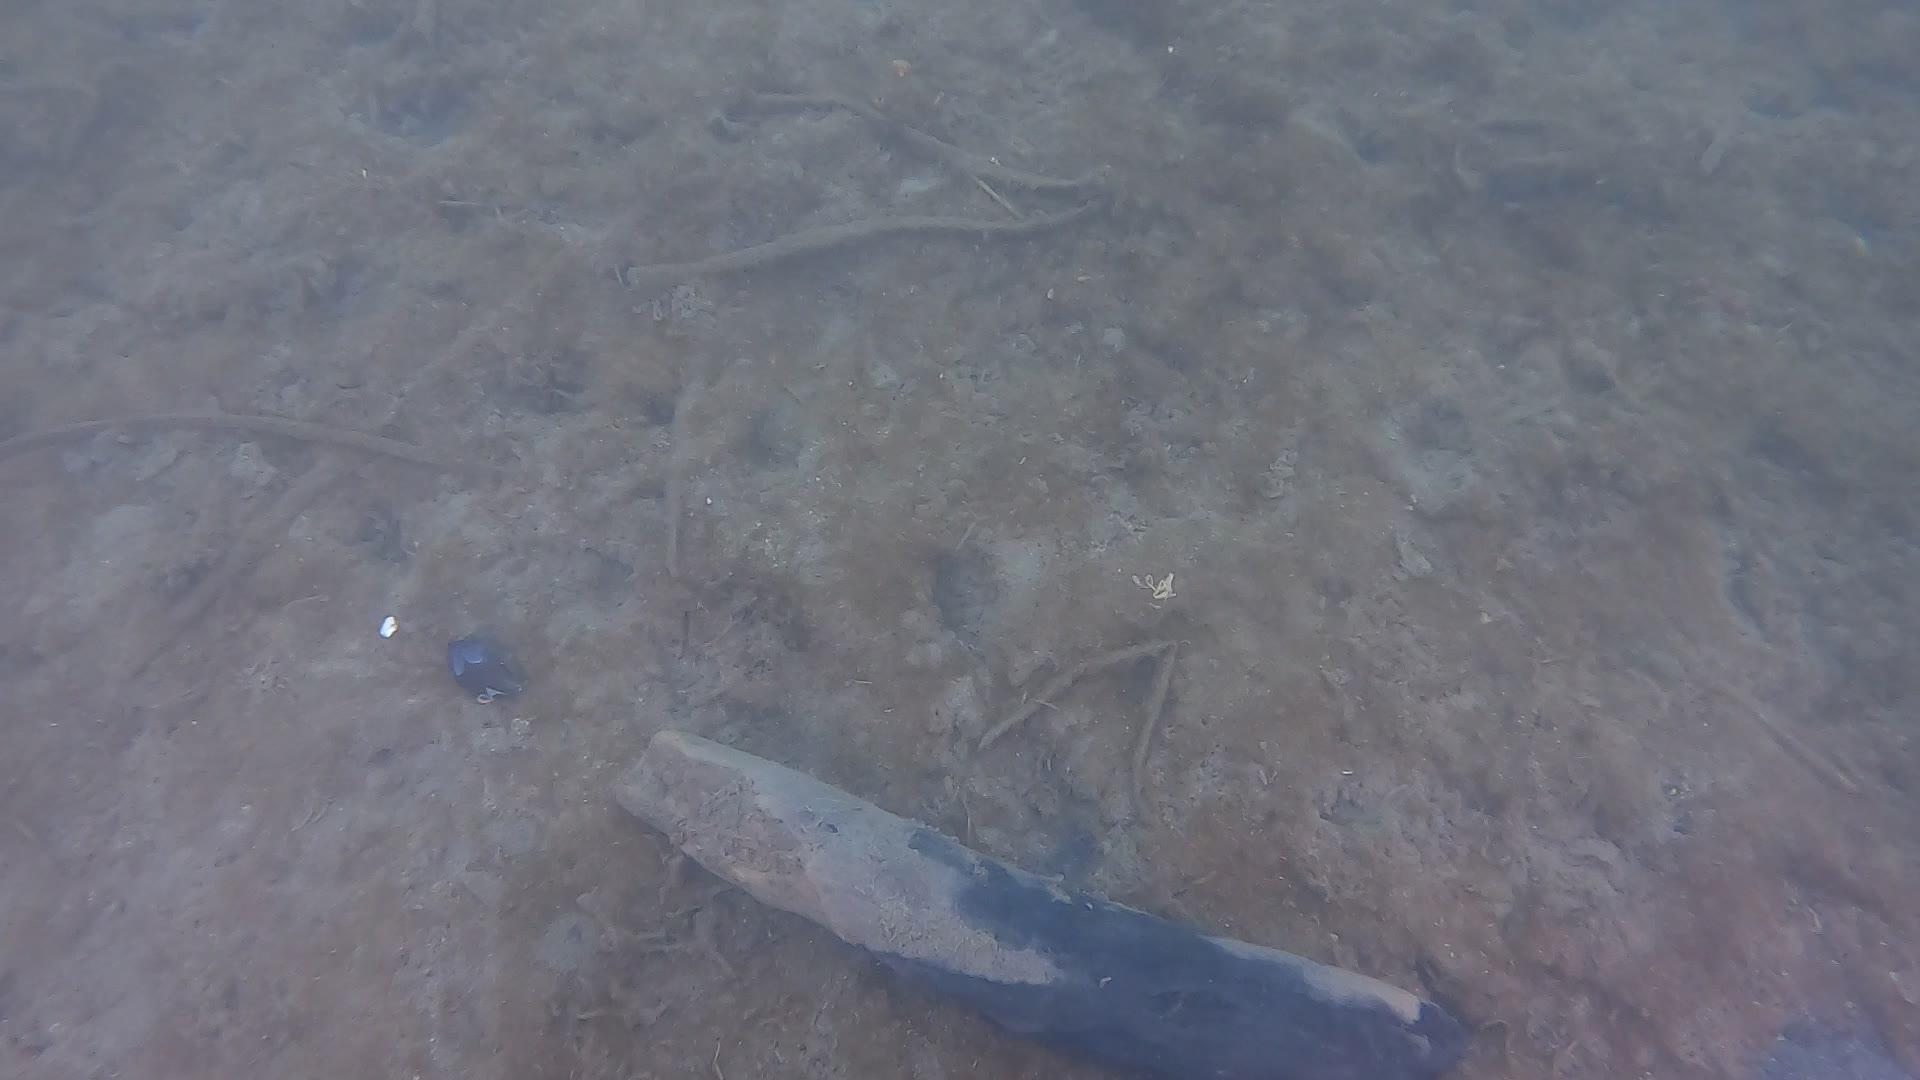wood: (601, 717, 1472, 1080)
